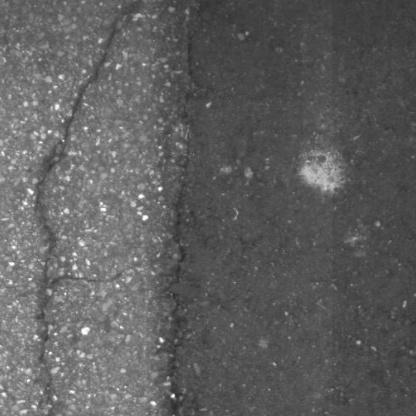Cracks: (31, 8, 136, 416)
